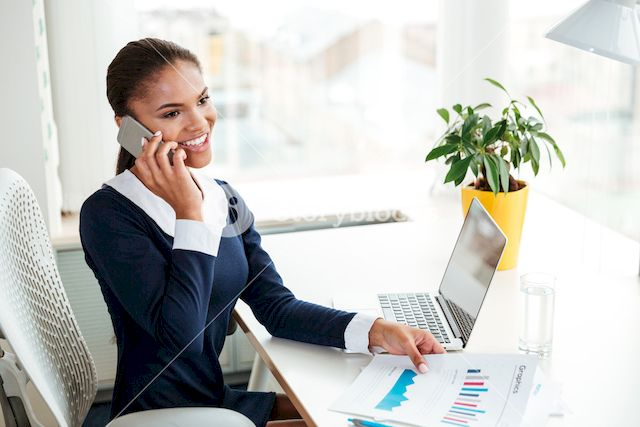phone: (117, 124, 178, 163)
talk: (111, 81, 221, 205)
